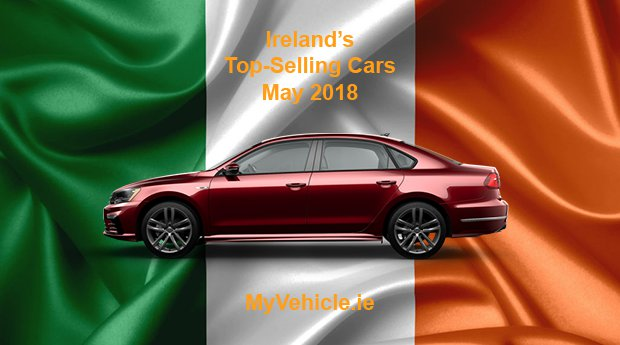car: (102, 127, 510, 261)
